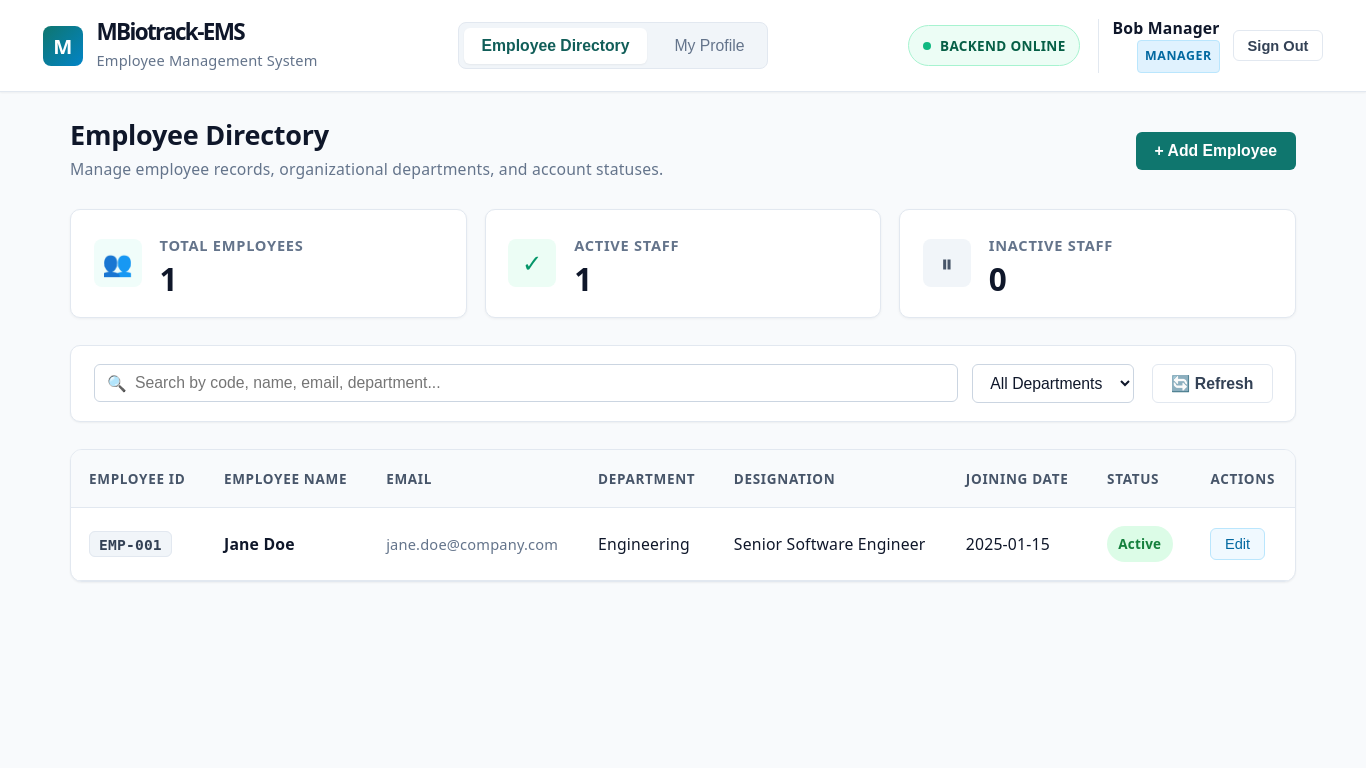
it: App component role-based access & directory UI › MANAGER role UI behavior › disables employment status checkbox in edit modal for MANAGER
The image size is (1366, 768).
Click the button "Edit" at (1238, 544), box [1210,528,1265,560]
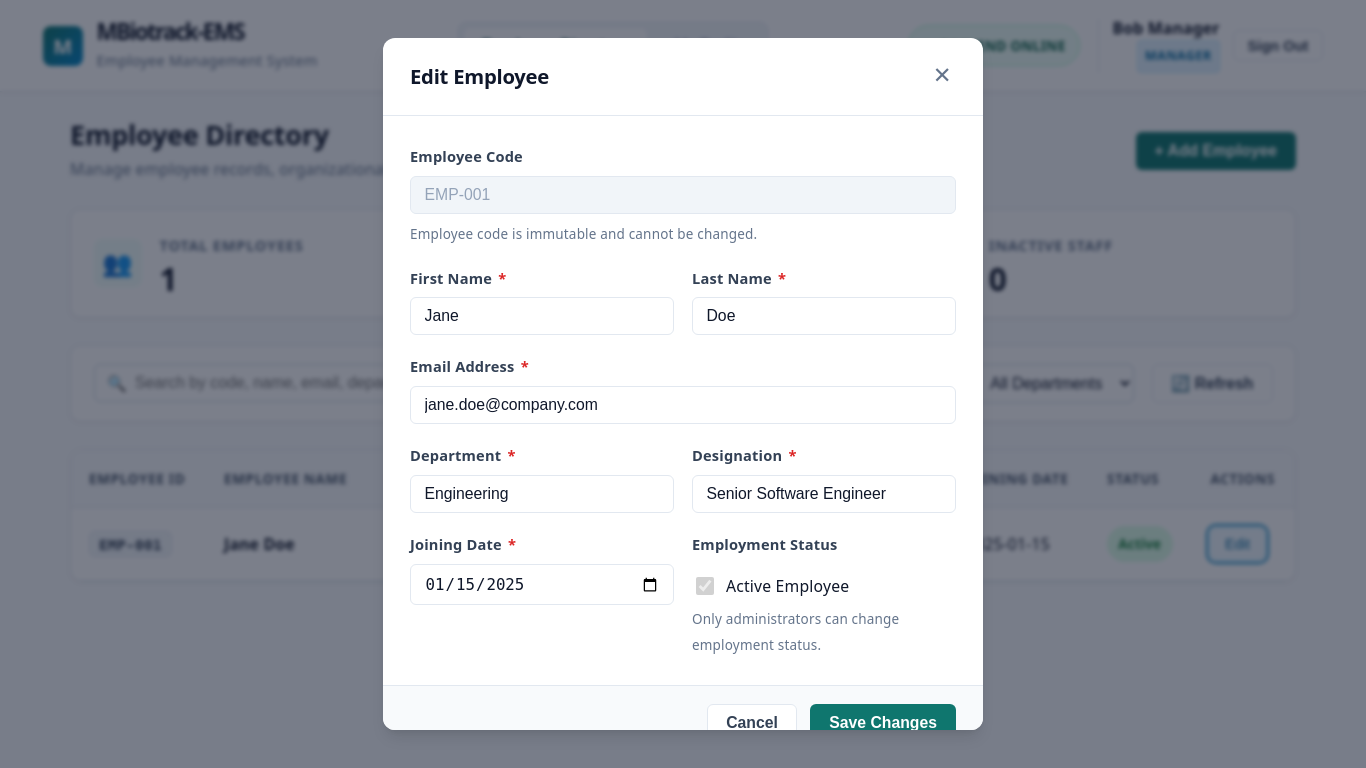
expect the dialog "Edit Employee" is shown: met, box [383,38,983,730]
expect the checkbox labelled "Active Employee" is disabled: met, box [696,577,714,595]
expect the text "Only administrators can change employment status." is shown: met, box [692,610,899,654]
